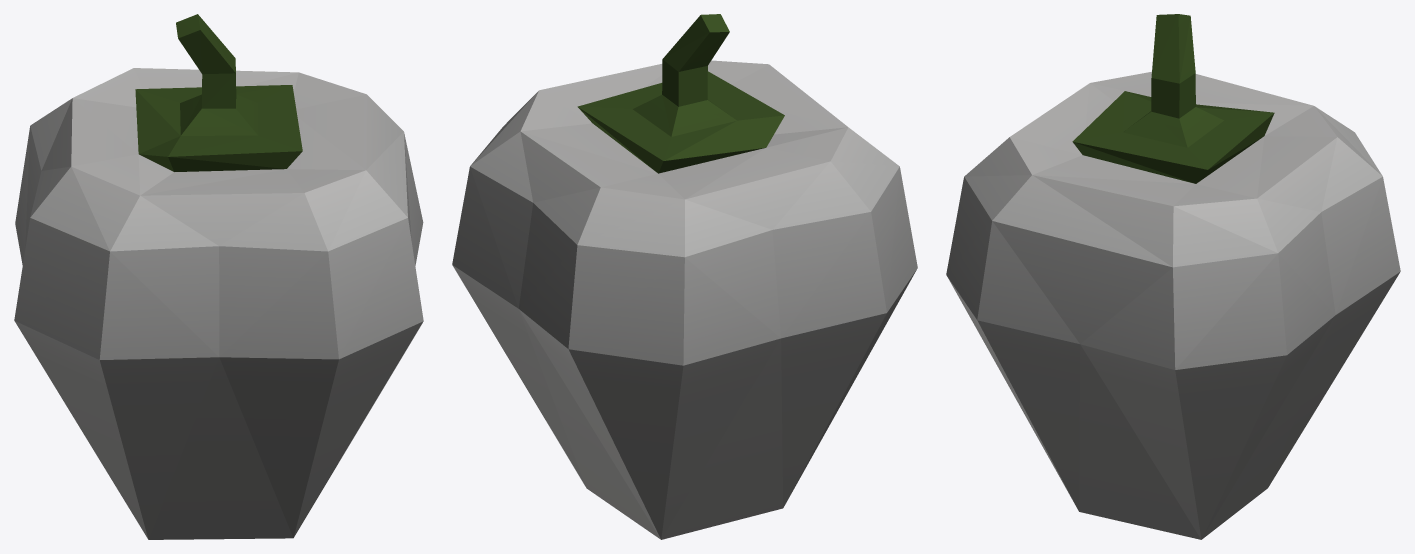
File: Pepper_02.fbx
3 views of the same model, side by side, from view 1: azimuth 30°, elevation 25°; view 2: azimuth 150°, elevation 25°; view 3: azimuth 270°, elevation 25° (orthographic). The views are drawn at different scales.
Visible parts, largest first — view 1: Pepper_02; view 2: Pepper_02; view 3: Pepper_02.
Boxes of the visible parts, x1,y1,x2,y2 form: Pepper_02: (14, 14, 423, 539); Pepper_02: (452, 14, 917, 539); Pepper_02: (946, 14, 1400, 539).
Bounding box in the file's own units: 0.1917 × 0.2302 × 0.1917.
